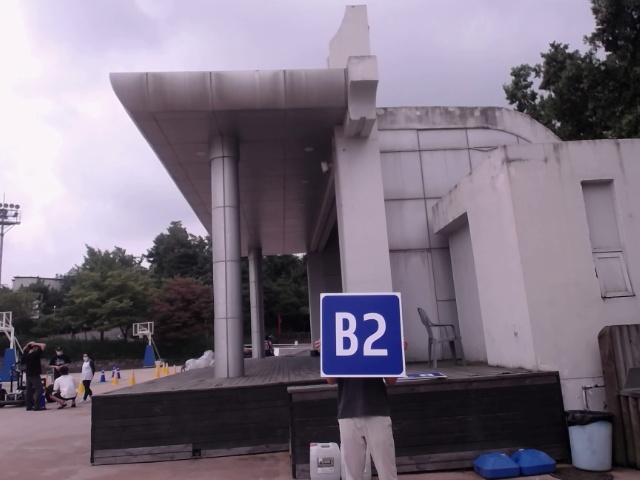delivery_b2: (320, 294, 405, 376)
